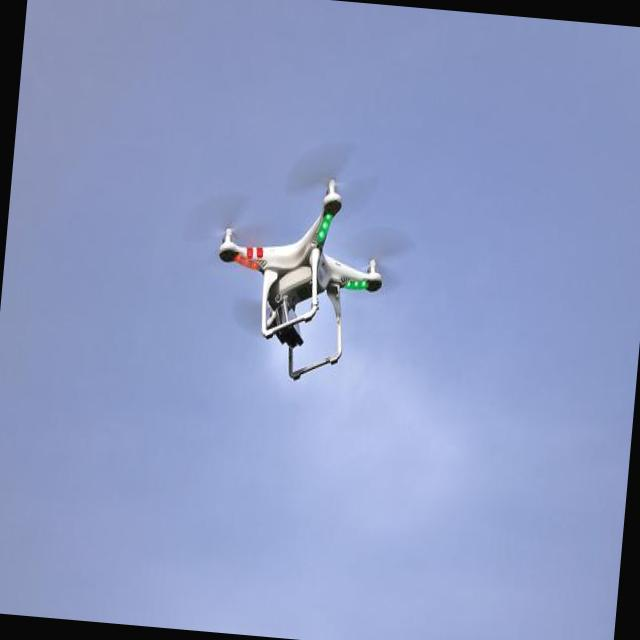drone: (210, 165, 392, 390)
